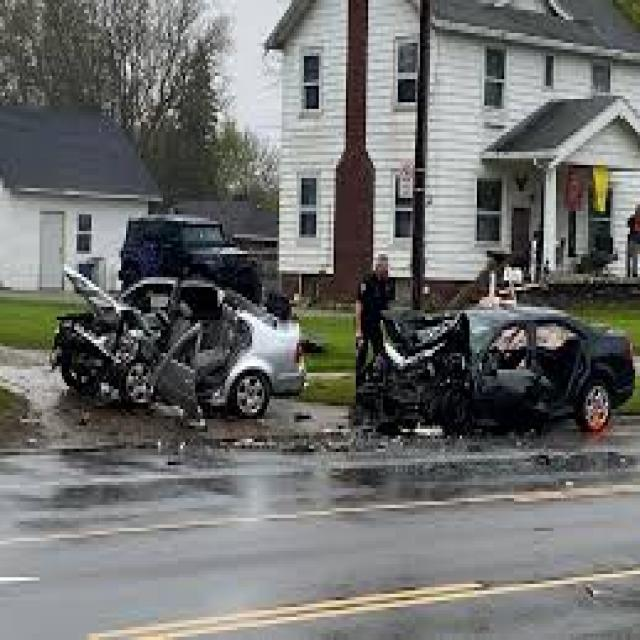accident: (30, 253, 609, 468), (49, 238, 319, 436), (370, 296, 640, 450)
